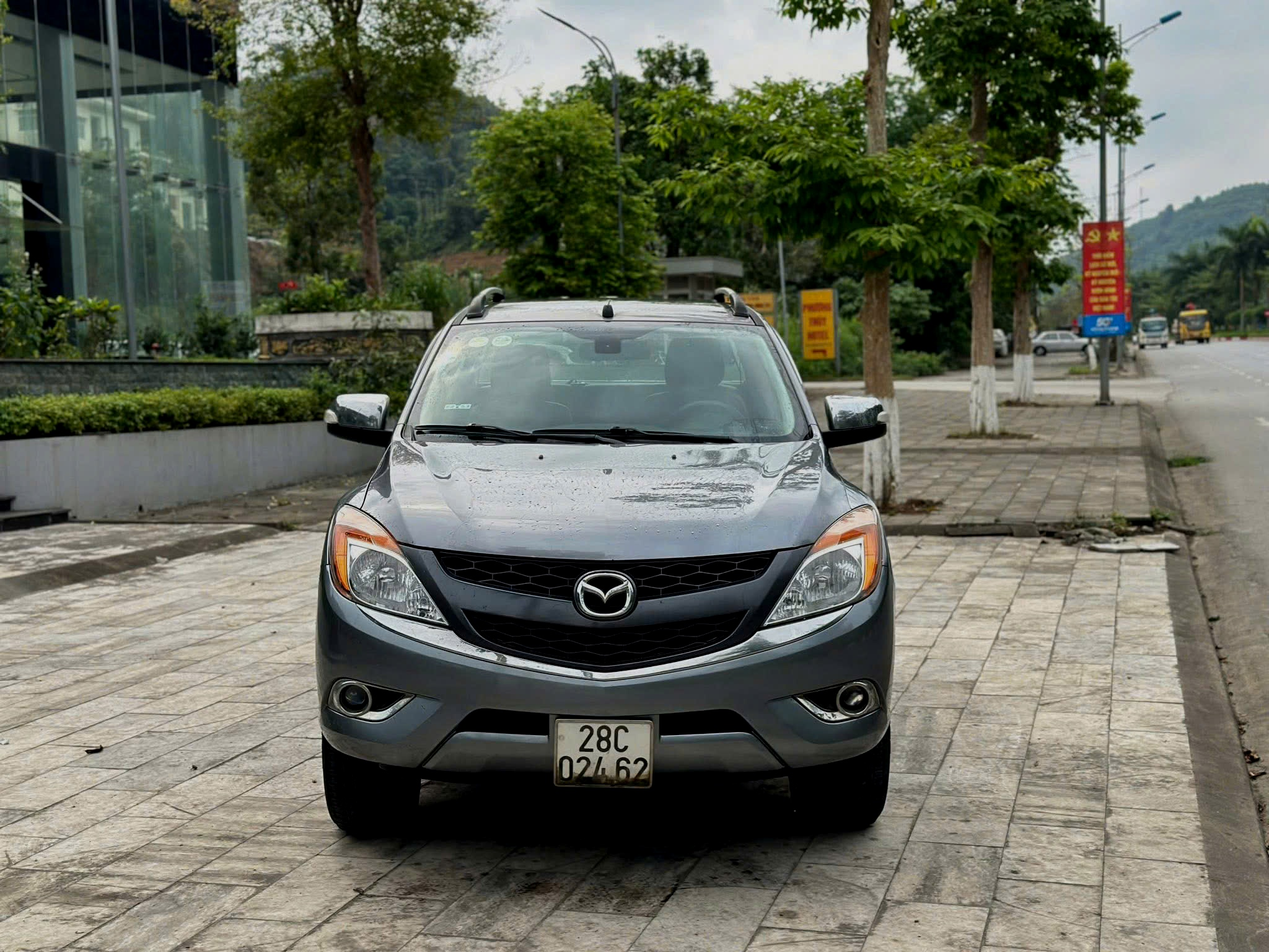Bien-so: (521, 722, 629, 798)
